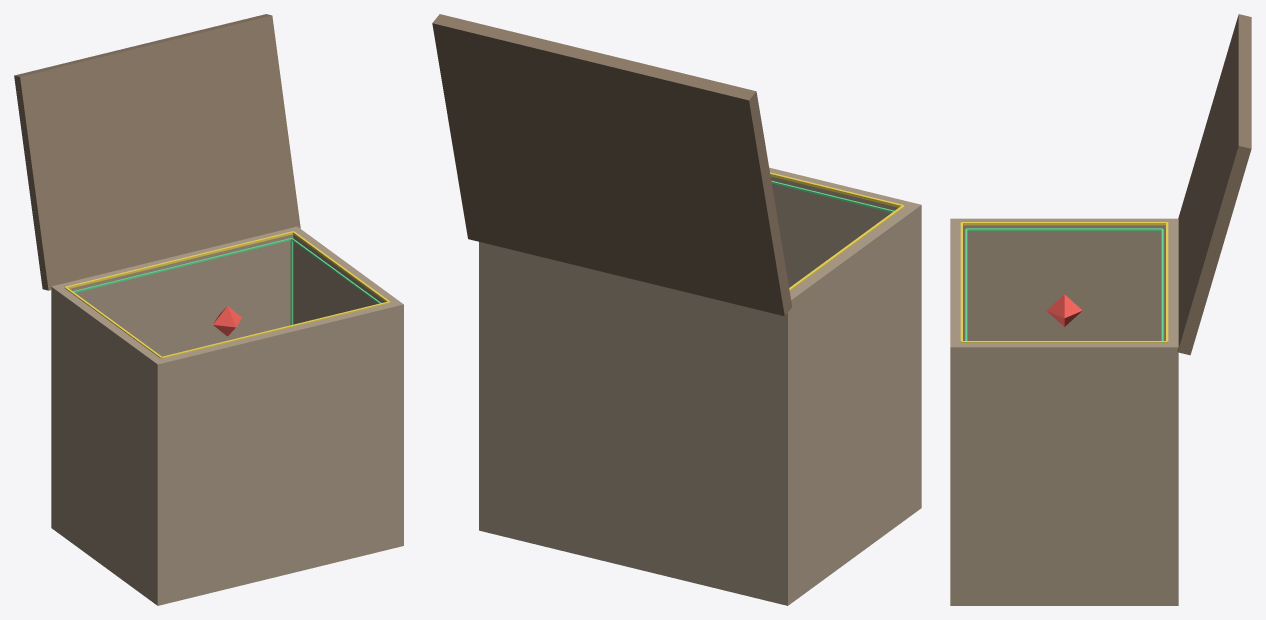
File: HakoOnna_Pose_Komebitsu.glb
The picture shows the model from 3 angles, left to right: view 1: azimuth 30°, elevation 25°; view 2: azimuth 150°, elevation 25°; view 3: azimuth 270°, elevation 25°; orthographic projection. The views are drawn at different scales.
Parts seen in each view (by area): view 1: Shell, Open_Lid, Opening, SafeZone_1.5cm; view 2: Shell, Open_Lid, Opening; view 3: Shell, Open_Lid, Opening, SafeZone_1.5cm, FaceTarget.
Boxes of the visible parts, bbox=[...] form: Shell: bbox=[51, 226, 403, 605]; Open_Lid: bbox=[14, 14, 300, 290]; Opening: bbox=[64, 231, 390, 358]; SafeZone_1.5cm: bbox=[73, 238, 380, 324]; Shell: bbox=[479, 167, 921, 605]; Open_Lid: bbox=[432, 14, 792, 316]; Opening: bbox=[770, 172, 904, 290]; Shell: bbox=[950, 218, 1178, 605]; Open_Lid: bbox=[1177, 14, 1251, 355]; Opening: bbox=[960, 222, 1168, 342]; SafeZone_1.5cm: bbox=[965, 228, 1163, 340]; FaceTarget: bbox=[1046, 294, 1082, 326].
Size of what is drawn, in the model's own units: 1.02 by 1.67 by 0.9896.
